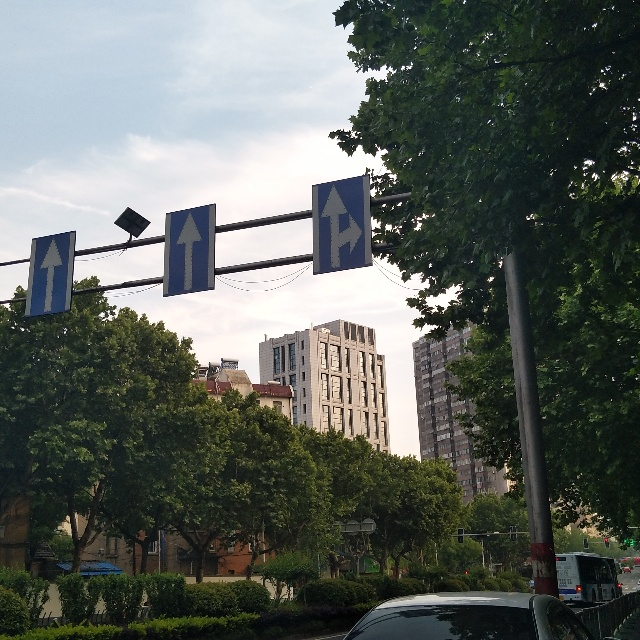straight: (164, 206, 216, 298), (22, 233, 74, 317)
